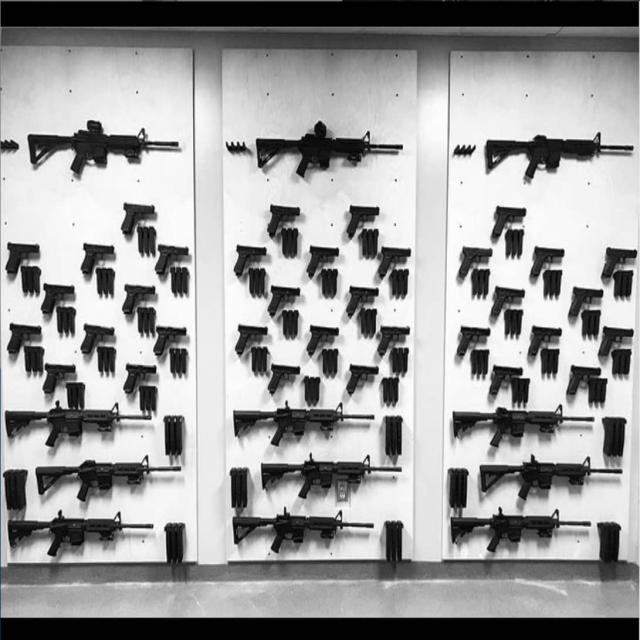HandGun: (529, 327, 561, 362), (347, 205, 380, 237), (80, 244, 113, 276), (459, 247, 493, 278), (346, 365, 380, 396), (457, 326, 489, 358), (233, 246, 266, 277), (603, 249, 637, 279), (346, 287, 378, 318), (40, 285, 72, 316), (6, 243, 37, 275), (490, 367, 522, 398), (155, 245, 188, 275), (267, 287, 300, 317), (8, 325, 41, 355), (80, 325, 113, 355), (599, 327, 632, 357), (493, 206, 526, 236), (567, 366, 601, 395), (570, 288, 603, 317), (269, 205, 300, 235), (122, 285, 153, 315), (532, 247, 564, 276), (43, 365, 74, 394), (236, 326, 267, 355), (121, 205, 153, 233), (307, 327, 339, 355), (492, 289, 524, 317), (378, 327, 412, 353), (154, 327, 185, 355), (307, 247, 338, 275), (268, 367, 298, 394), (126, 365, 156, 392)
Rifle: (29, 120, 180, 172), (258, 123, 405, 176), (7, 510, 154, 557), (35, 455, 182, 502), (486, 134, 634, 179), (233, 507, 374, 554), (262, 453, 403, 499), (479, 455, 623, 500), (5, 403, 152, 447), (451, 507, 591, 553), (452, 405, 595, 449), (233, 403, 375, 447)
